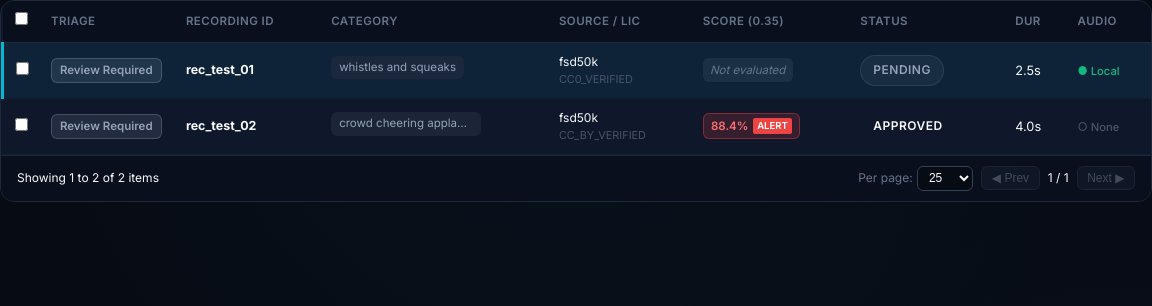
Test: ReviewStudio Integration Component › supports administrative bulk selection with strict non-approval disclaimer
The width and height of the screenshot is (1152, 306).
Click the checkbox named "Select all recordings on this page". click: (22, 19)
box: x1=15 y1=12 x2=28 y2=25
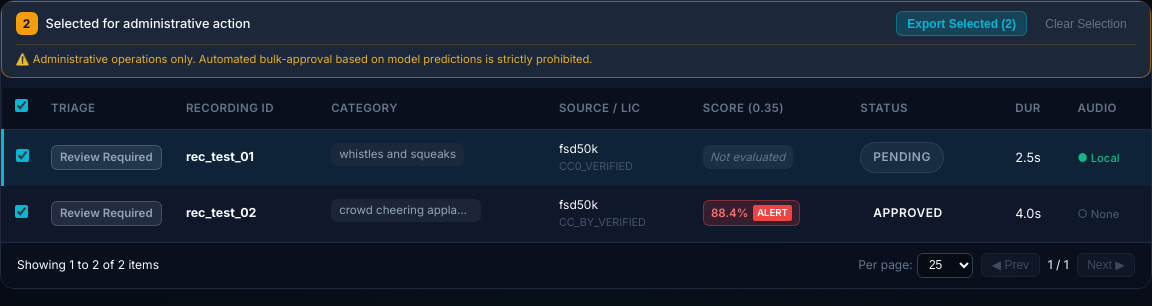
Check: the element with test id "admin-bulk-toolbar" is shown, box x1=1 y1=1 x2=1151 y2=78
Check: the text "Selected for administrative action" is shown, box x1=46 y1=14 x2=250 y2=33
Check: the text "Automated bulk-approval based on model predictions is strictly prohibited" is shown, box x1=16 y1=52 x2=593 y2=66
